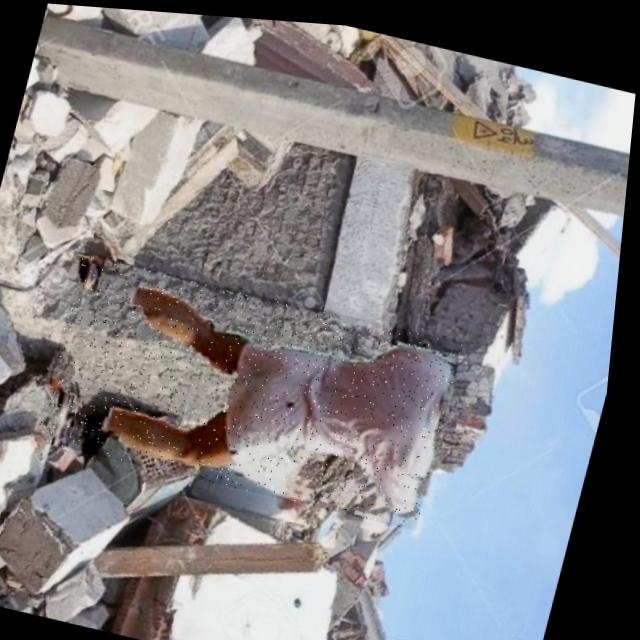Person in Rubble: (37, 250, 473, 525)
